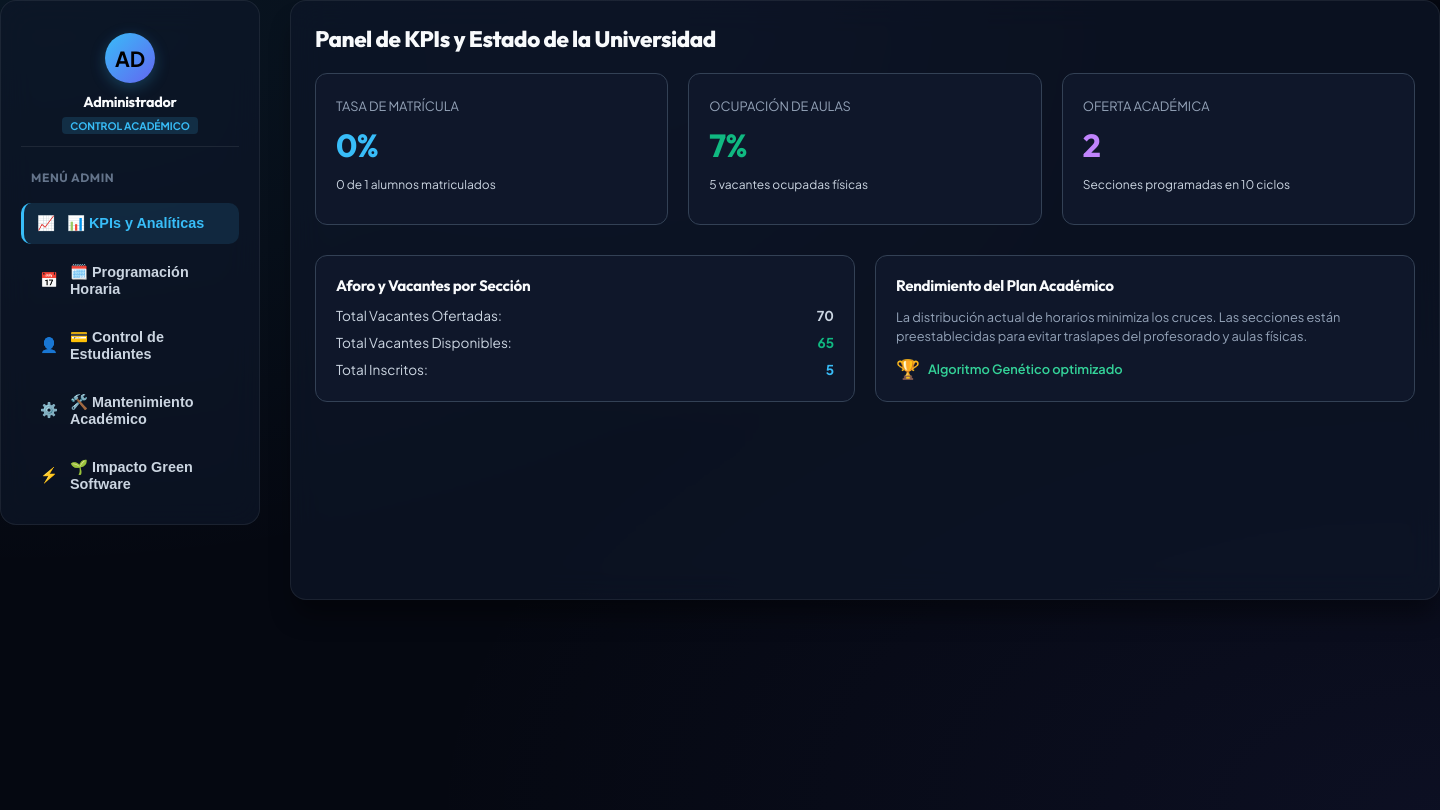
Test: AdminDashboard Component › allows navigating between different tabs
The image size is (1440, 810).
Click the text "🛠️ Mantenimiento Académico". click: (132, 410)
box: [70,394,194,427]
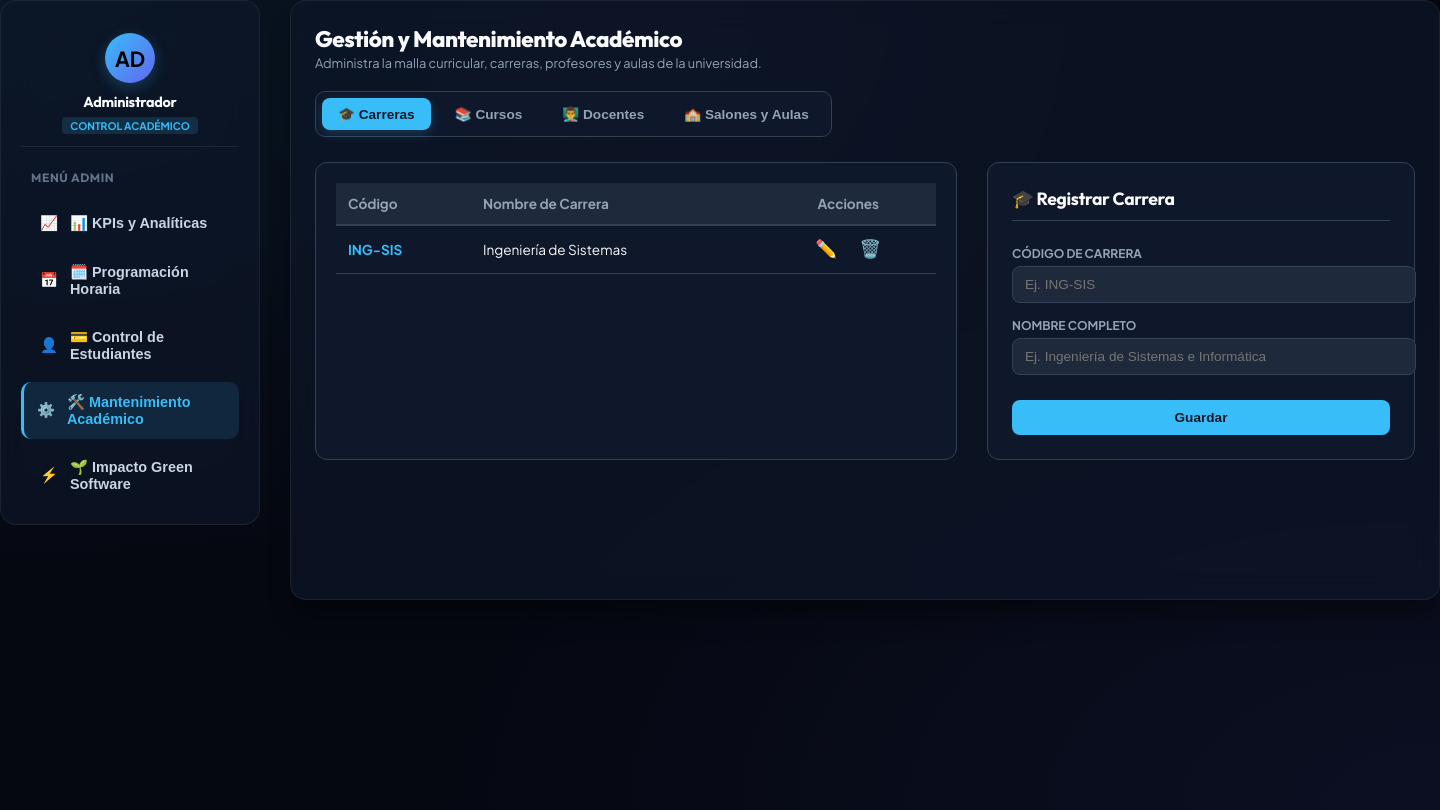
expect the heading "Gestión y Mantenimiento Académico" is shown: met, box [315,25,682,53]
Click the text "💳 Control de Estudiantes". click: (117, 346)
box: [70,329,164,362]
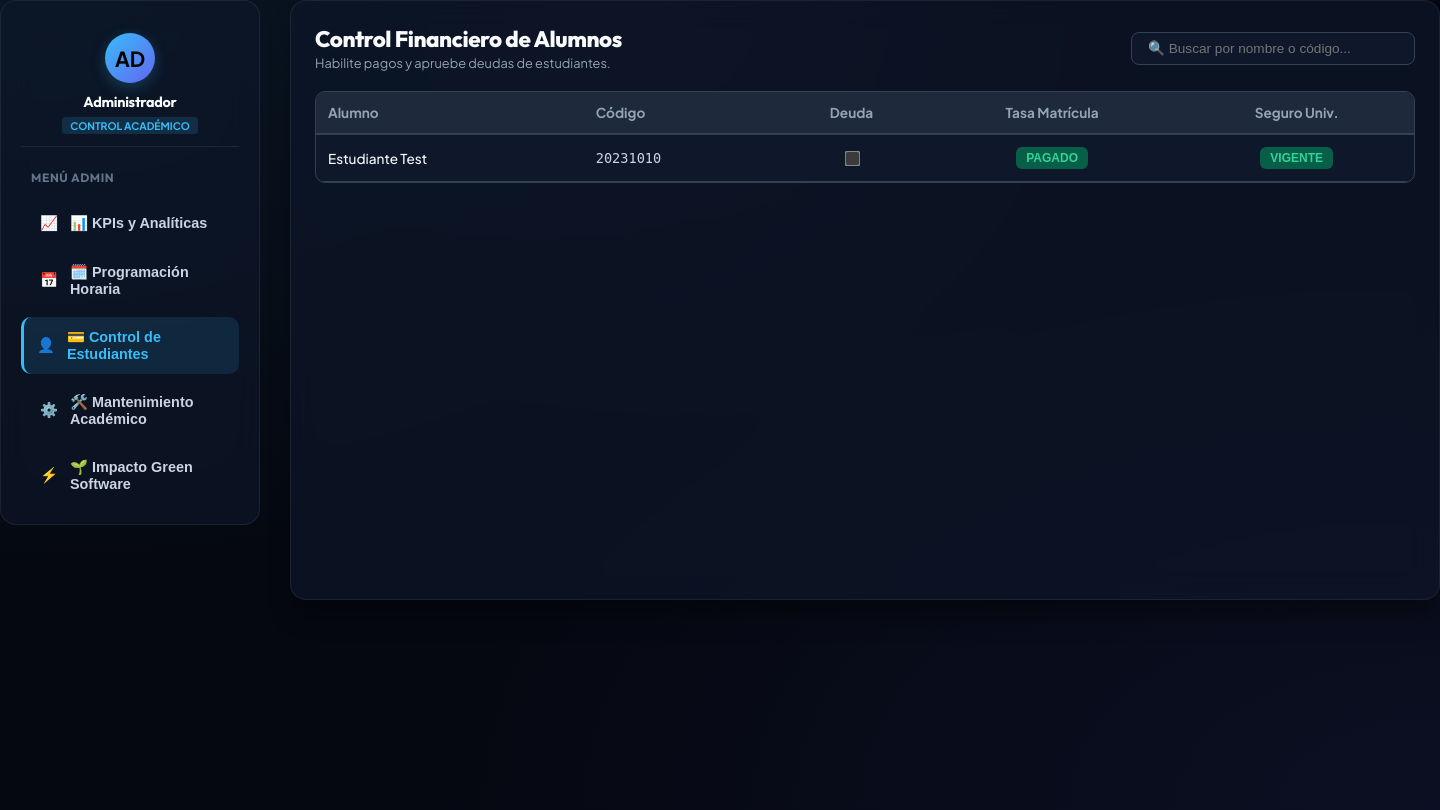
expect the heading "Control Financiero de Alumnos" is shown: met, box [315,25,622,53]
Click the text "🌱 Impacto Green Software". click: (131, 476)
box: [70,459,193,492]
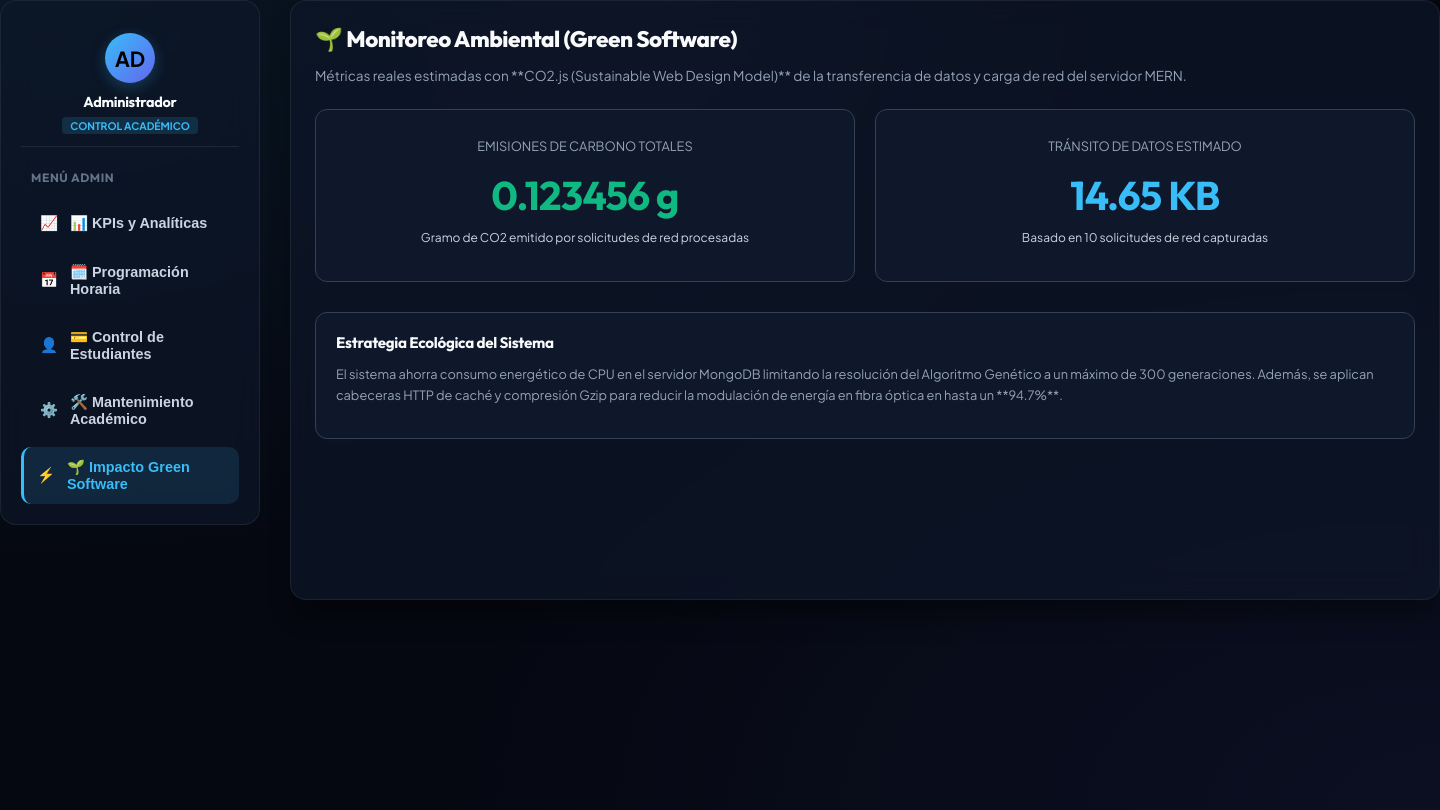
expect the heading "🌱 Monitoreo Ambiental (Green Software)" is shown: met, box [315,25,737,53]
